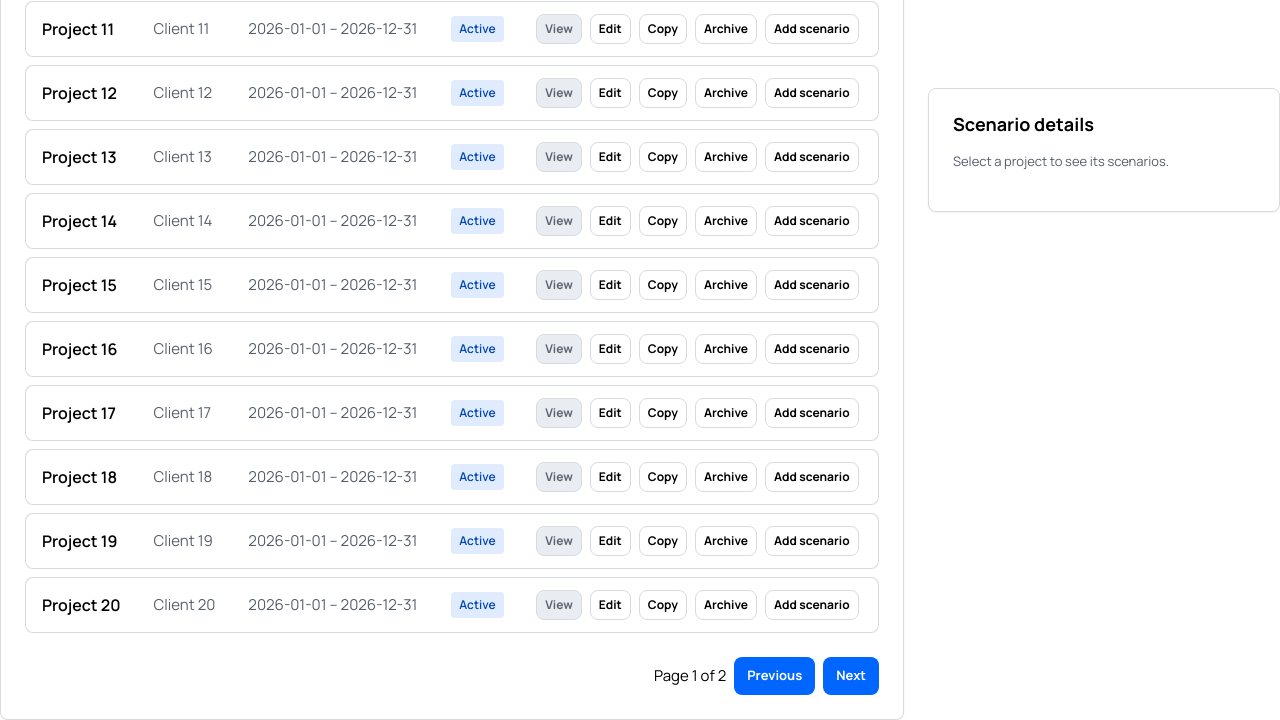
project search and pagination › resets to offset zero when status changes from a later page
(page scrolled)
Click the button "Next" at coordinates (851, 676), box [823,657,879,695]
(page scrolled)
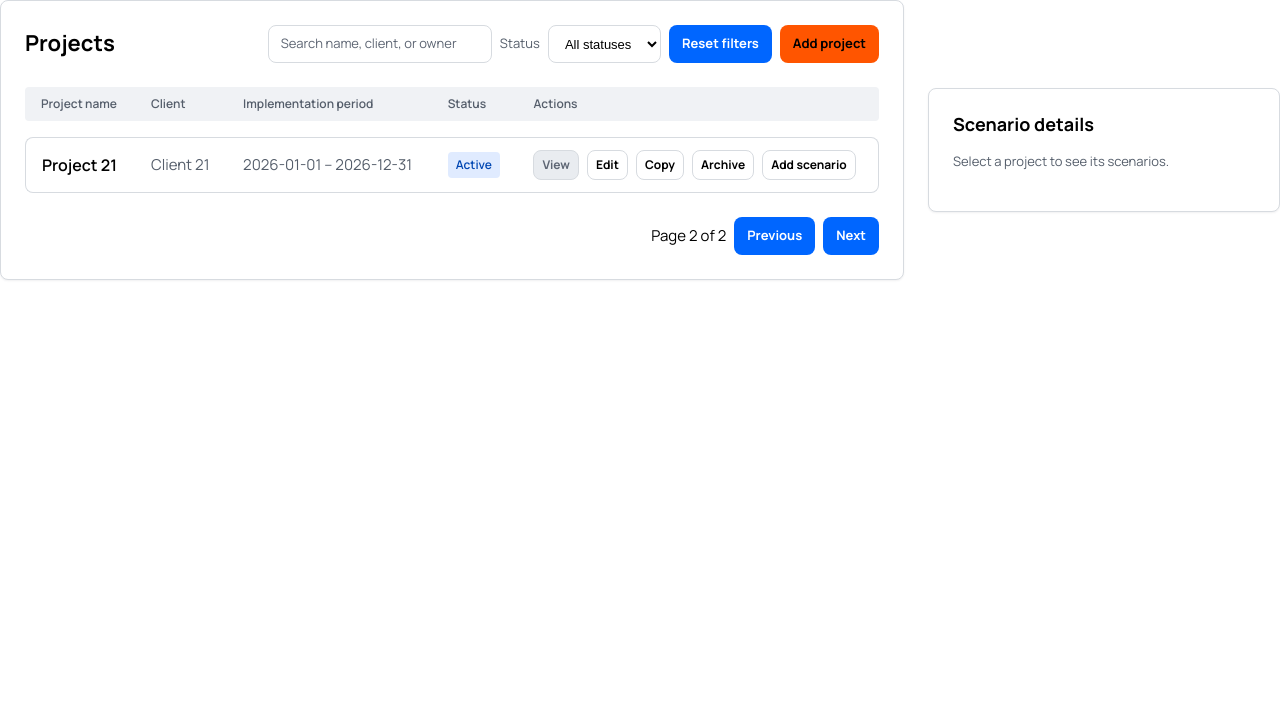
Expected: the row "Project 21" is shown, [25,137,879,193]
Select "Archived" in the dropdown named "Filter projects by status" at coordinates (604, 44), box [548,25,661,63]
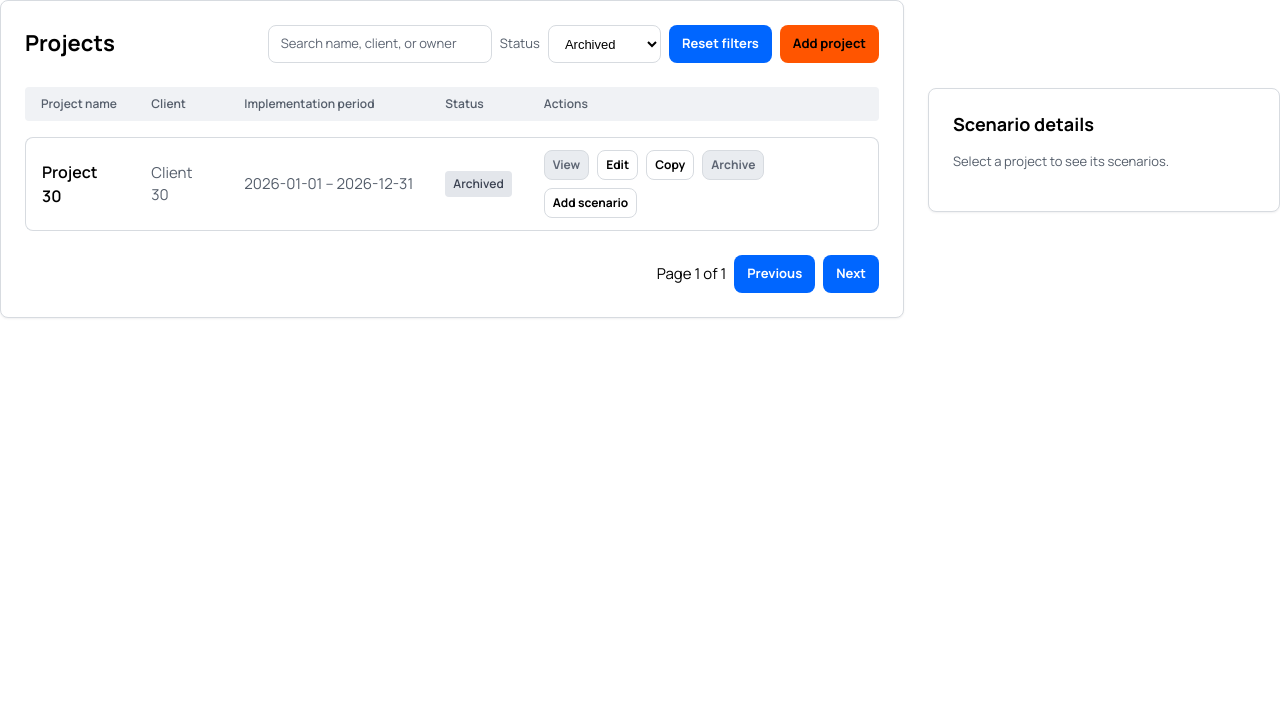
Expected: the row "Project 30" is shown, [25,137,879,231]
Expected: the text "Page 1 of 1" is shown, [657,263,726,285]
